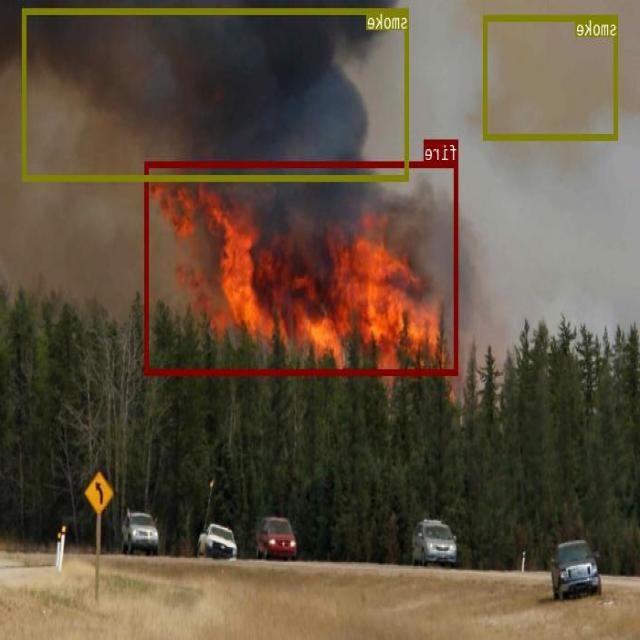fire: (146, 160, 459, 374)
smoke: (23, 7, 410, 180), (484, 14, 618, 139)
